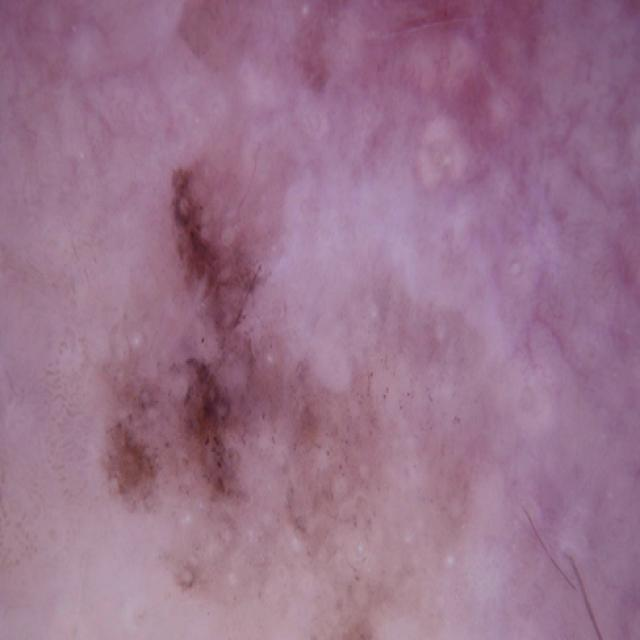Keratosis: (81, 144, 397, 640)
